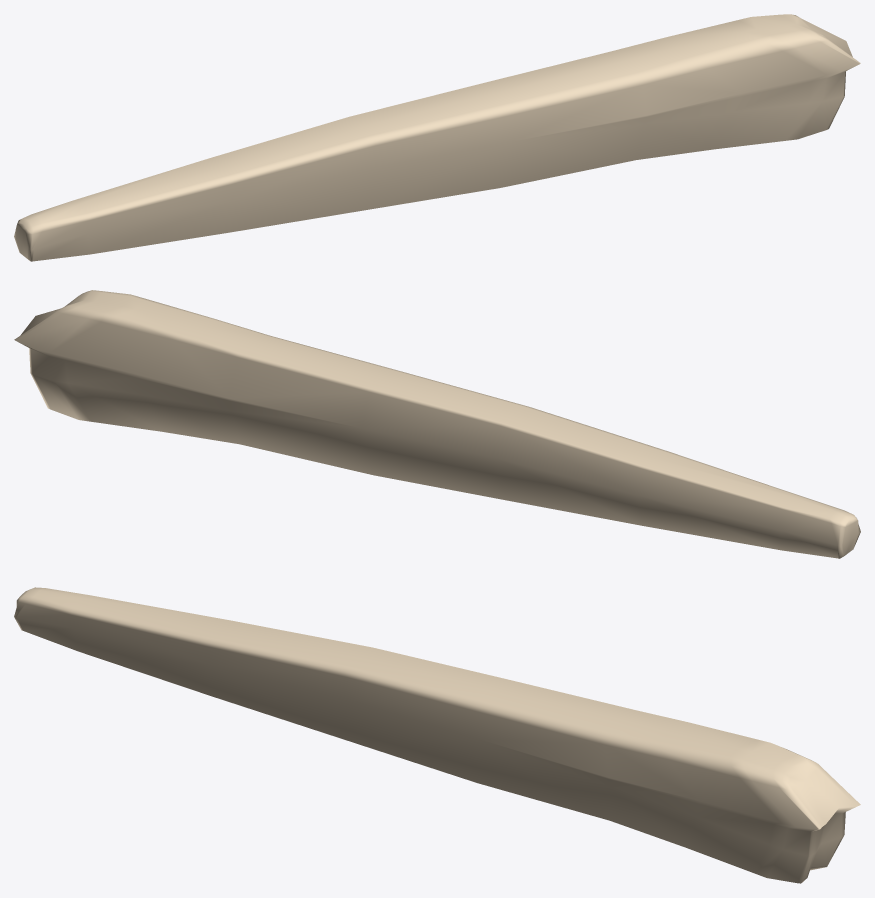
File: WOOD_A_PRIM.fbx
The picture shows the model from 3 angles, top to bottom: view 1: azimuth 30°, elevation 25°; view 2: azimuth 150°, elevation 25°; view 3: azimuth 330°, elevation 25°; orthographic projection.
Visible parts, largest first — view 1: WOOD_A_PRIM; view 2: WOOD_A_PRIM; view 3: WOOD_A_PRIM.
Part boxes in pixels (<box>): WOOD_A_PRIM: <box>14,14,860,261</box>; WOOD_A_PRIM: <box>14,290,860,558</box>; WOOD_A_PRIM: <box>14,587,860,883</box>.
Size of the model in its own units: 23.53 by 3.07 by 2.15.
